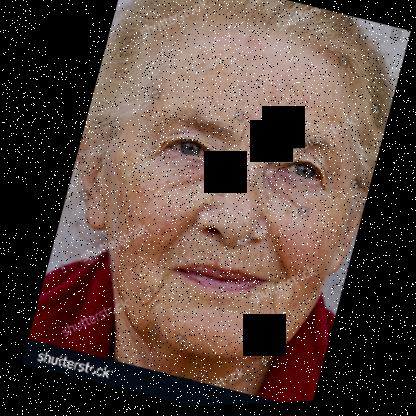Female: (22, 0, 410, 397)
